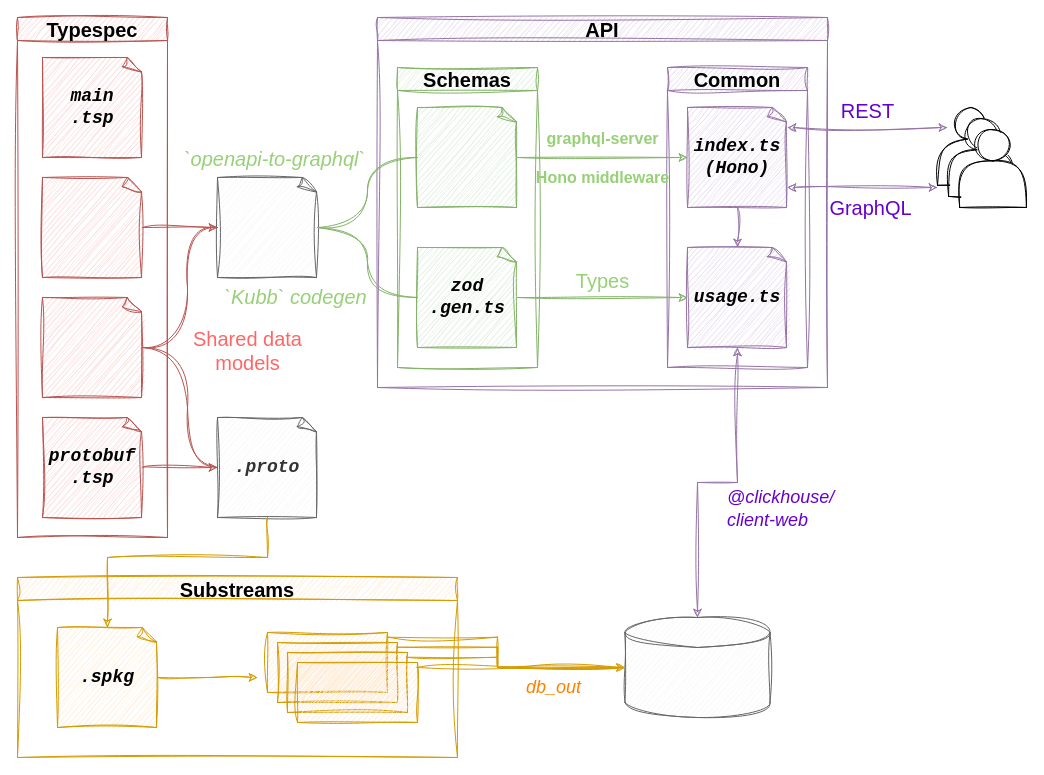
Image size: 1044x775. Some labels were removed from this diagram. Here are the shapes that lost their labels. From the top down, the centre of each, then its label:
[467,157]: schema .graphql
[92,227]: openapi3 .tsp
[267,227]: openapi .json
[92,347]: models .tsp
[697,667]: ClickHouse
[357,692]: Workers
